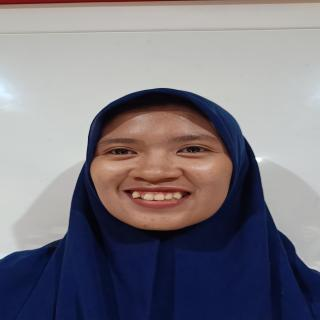Senang: (92, 103, 239, 233)
